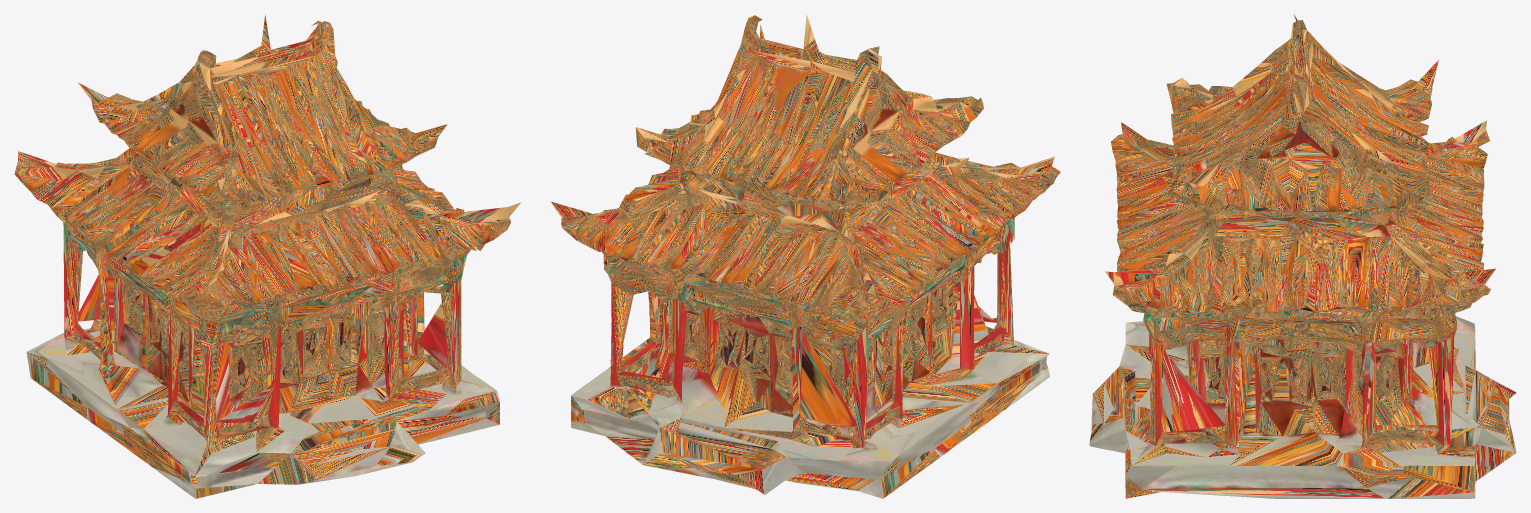
Rendered from lib_pavilion2.mid.glb.
The picture shows the model from 3 angles, left to right: view 1: azimuth 30°, elevation 25°; view 2: azimuth 150°, elevation 25°; view 3: azimuth 270°, elevation 25°; orthographic projection. The views are drawn at different scales.
Parts seen in each view (by area): view 1: output_unwrapped; view 2: output_unwrapped; view 3: output_unwrapped.
Boxes of the visible parts, x1,y1,x2,y2 form: output_unwrapped: (14, 14, 520, 498); output_unwrapped: (550, 14, 1060, 498); output_unwrapped: (1089, 15, 1516, 498).
Bounding box in the file's own units: 1.75 × 1.99 × 1.95.
1 material, 1 textured.
